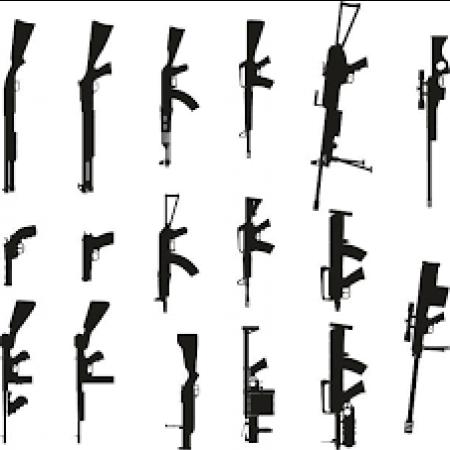2: (290, 9, 391, 197), (63, 9, 145, 197), (138, 15, 226, 172), (390, 244, 450, 447), (225, 13, 297, 163), (54, 307, 129, 450), (0, 11, 55, 204), (304, 321, 383, 450), (137, 185, 212, 314), (218, 329, 293, 450), (404, 21, 450, 210), (297, 208, 378, 313), (148, 327, 216, 450), (218, 189, 290, 304), (1, 314, 46, 450)
Pistol: (60, 218, 135, 299), (1, 221, 57, 306)
